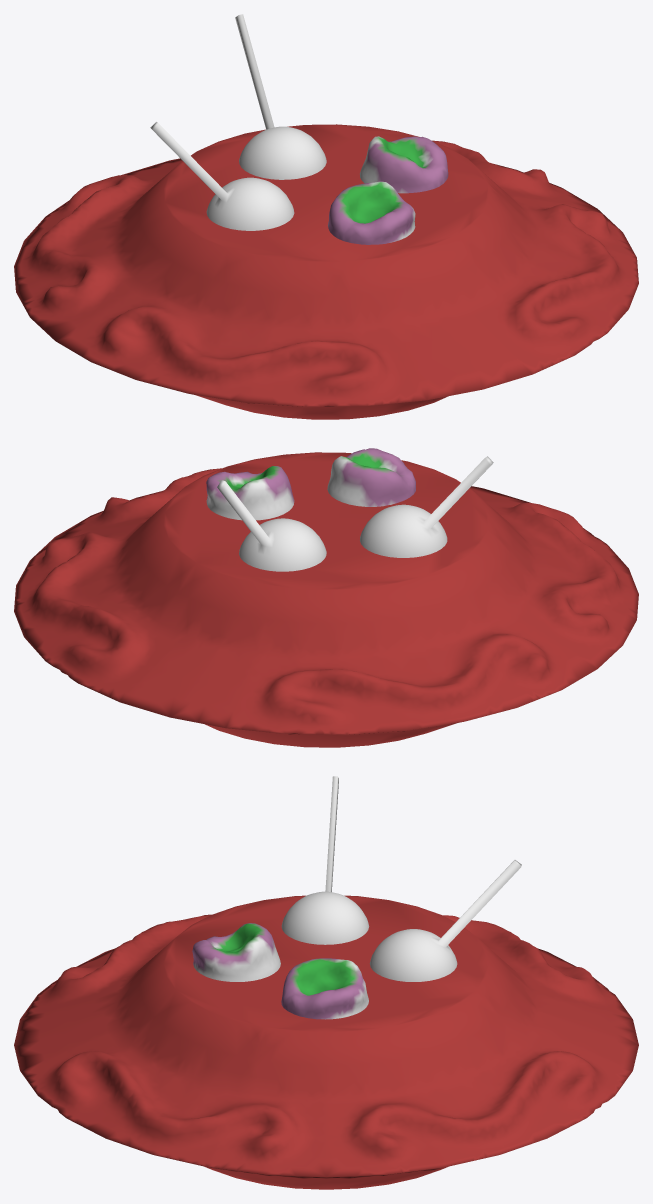
File: ufo.glb
3 renders of one model, top to bottom at view 1: azimuth 30°, elevation 25°; view 2: azimuth 150°, elevation 25°; view 3: azimuth 270°, elevation 25°, orthographic.
Visible parts, largest first — view 1: Cylinder, Sphere, Sphere.002, Rador, Radar; view 2: Cylinder, Sphere.002, Sphere, Rador, Radar; view 3: Cylinder, Sphere, Radar, Sphere.002, Rador.
Part boxes in pixels (box(x1,y1,x2,y2)): Cylinder: box(14, 124, 638, 419); Sphere: box(235, 14, 326, 179); Sphere.002: box(150, 122, 294, 230); Rador: box(327, 181, 415, 244); Radar: box(360, 136, 448, 193); Cylinder: box(14, 452, 638, 747); Sphere.002: box(360, 456, 493, 557); Sphere: box(217, 480, 326, 571); Rador: box(327, 448, 415, 506); Radar: box(206, 466, 294, 520); Cylinder: box(14, 895, 638, 1189); Sphere: box(369, 860, 521, 981); Radar: box(281, 958, 368, 1019); Sphere.002: box(281, 776, 369, 944); Rador: box(192, 923, 280, 981).
Size of the model in its own units: 3.84 by 1.79 by 3.84.
